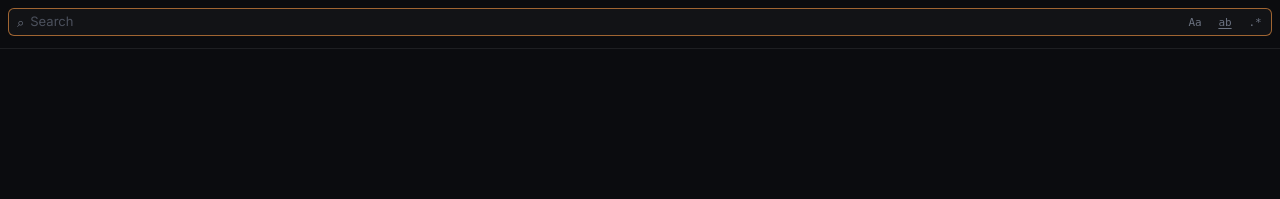
Test case: SearchPanel › a file header: its name, its folder dim, a count; it folds its rows
Type "open" into the field named "Search text".
click(604, 22); type("open")  # box [30,12,1177,32]
Wait 300 ms
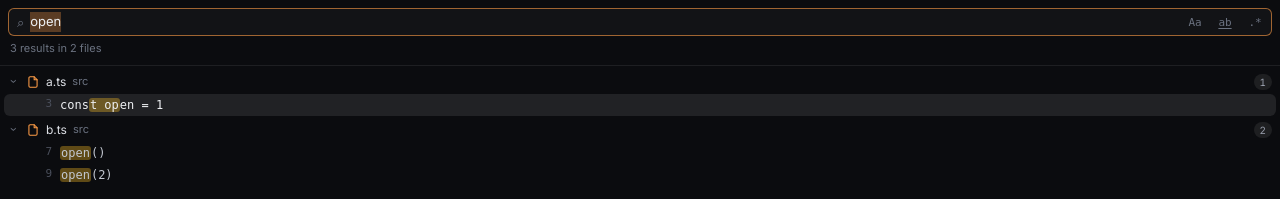
Click the button "› b.ts src 2".
click(14, 129)  # box [4,118,1276,142]
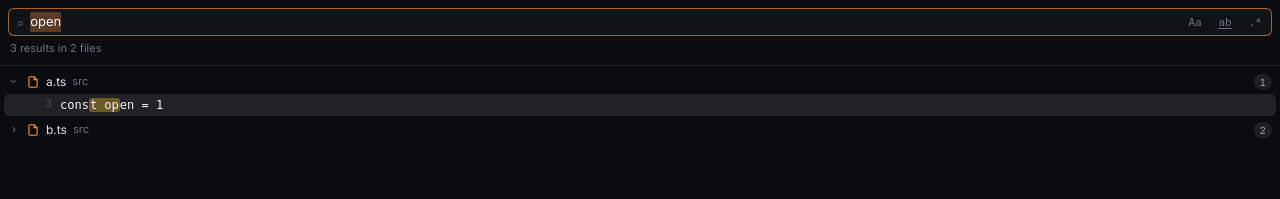
Check: no the option "7 open()" are shown
Check: the button "› b.ts src 2" is collapsed, box [4,118,1276,142]
